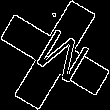M_SW: (22, 21, 88, 89)
